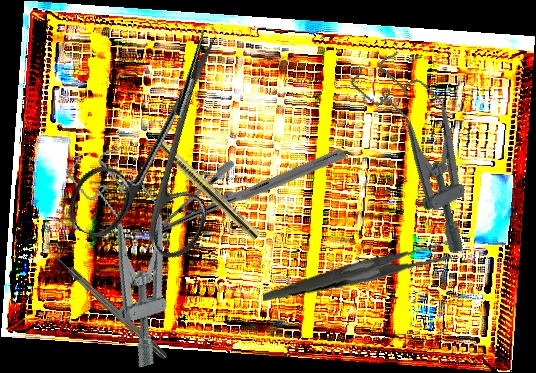Dressing Forceps: (262, 228, 453, 314)
Handpiece: (134, 117, 263, 242)
Hook Surgical: (47, 248, 169, 361)
Iris Scissors: (62, 8, 269, 272)
Needle Holder: (143, 85, 349, 303)
Speculum: (344, 37, 505, 262), (62, 137, 201, 373)
